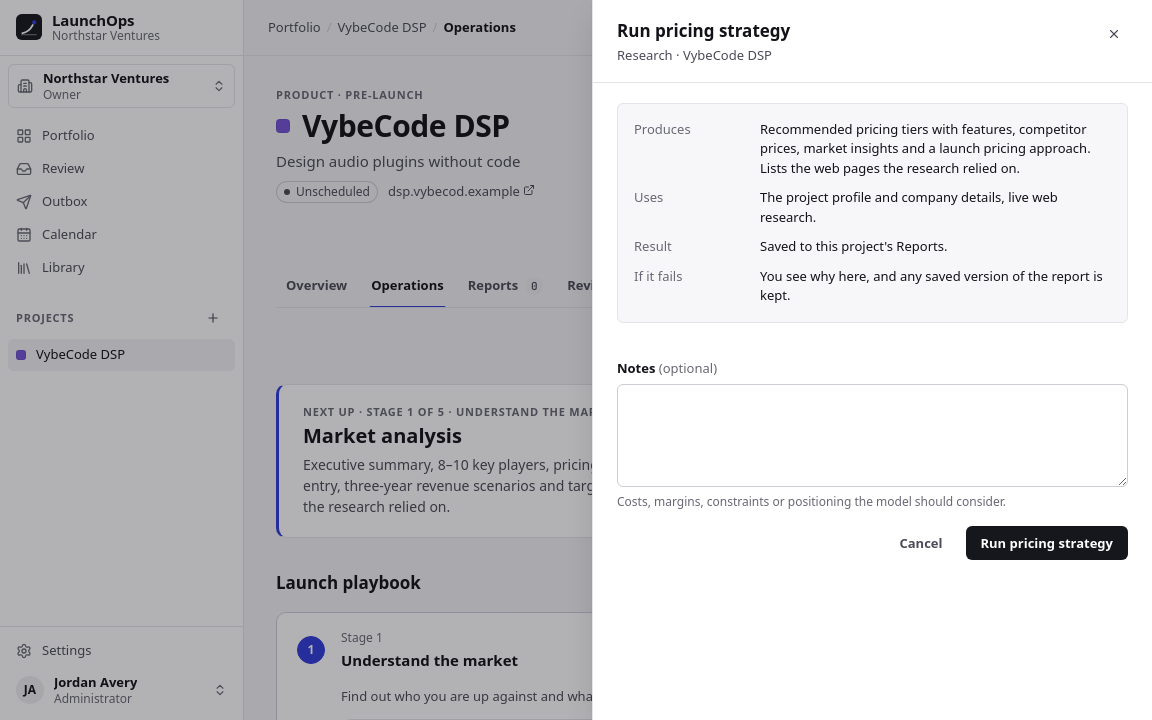
Test: Operations › saves a report and offers to open it
Type "Target 70% margin" into the text box labelled "Notes (optional)" at (872, 436), box [617, 384, 1128, 487]
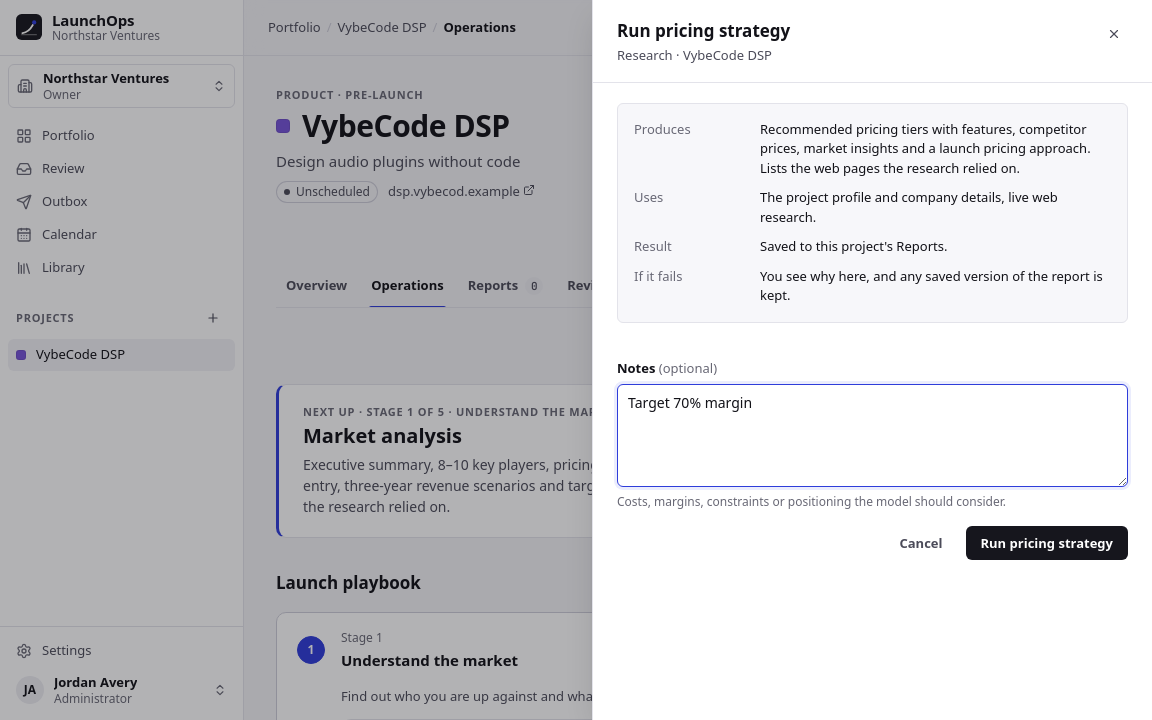
Click the button "Run pricing strategy" at (1047, 543), box [966, 526, 1128, 560]
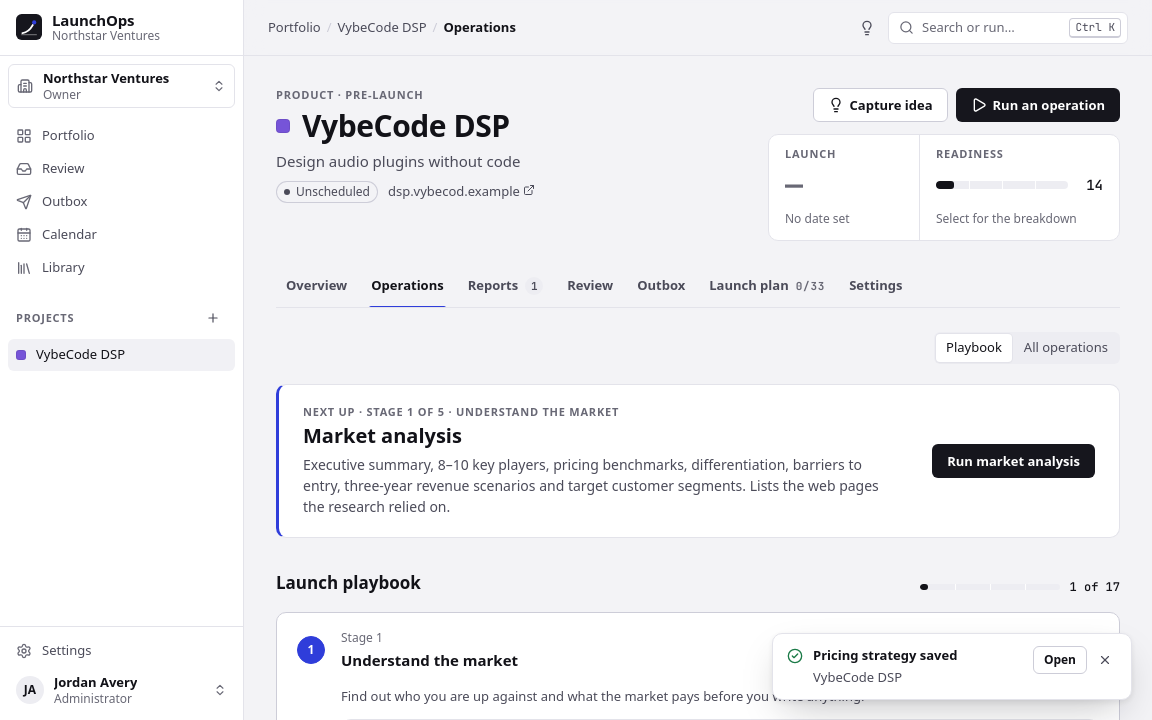
Expected: the text "Pricing strategy saved" is shown, [813, 646, 957, 664]
Expected: the button "Open" is shown, [1033, 646, 1087, 674]
